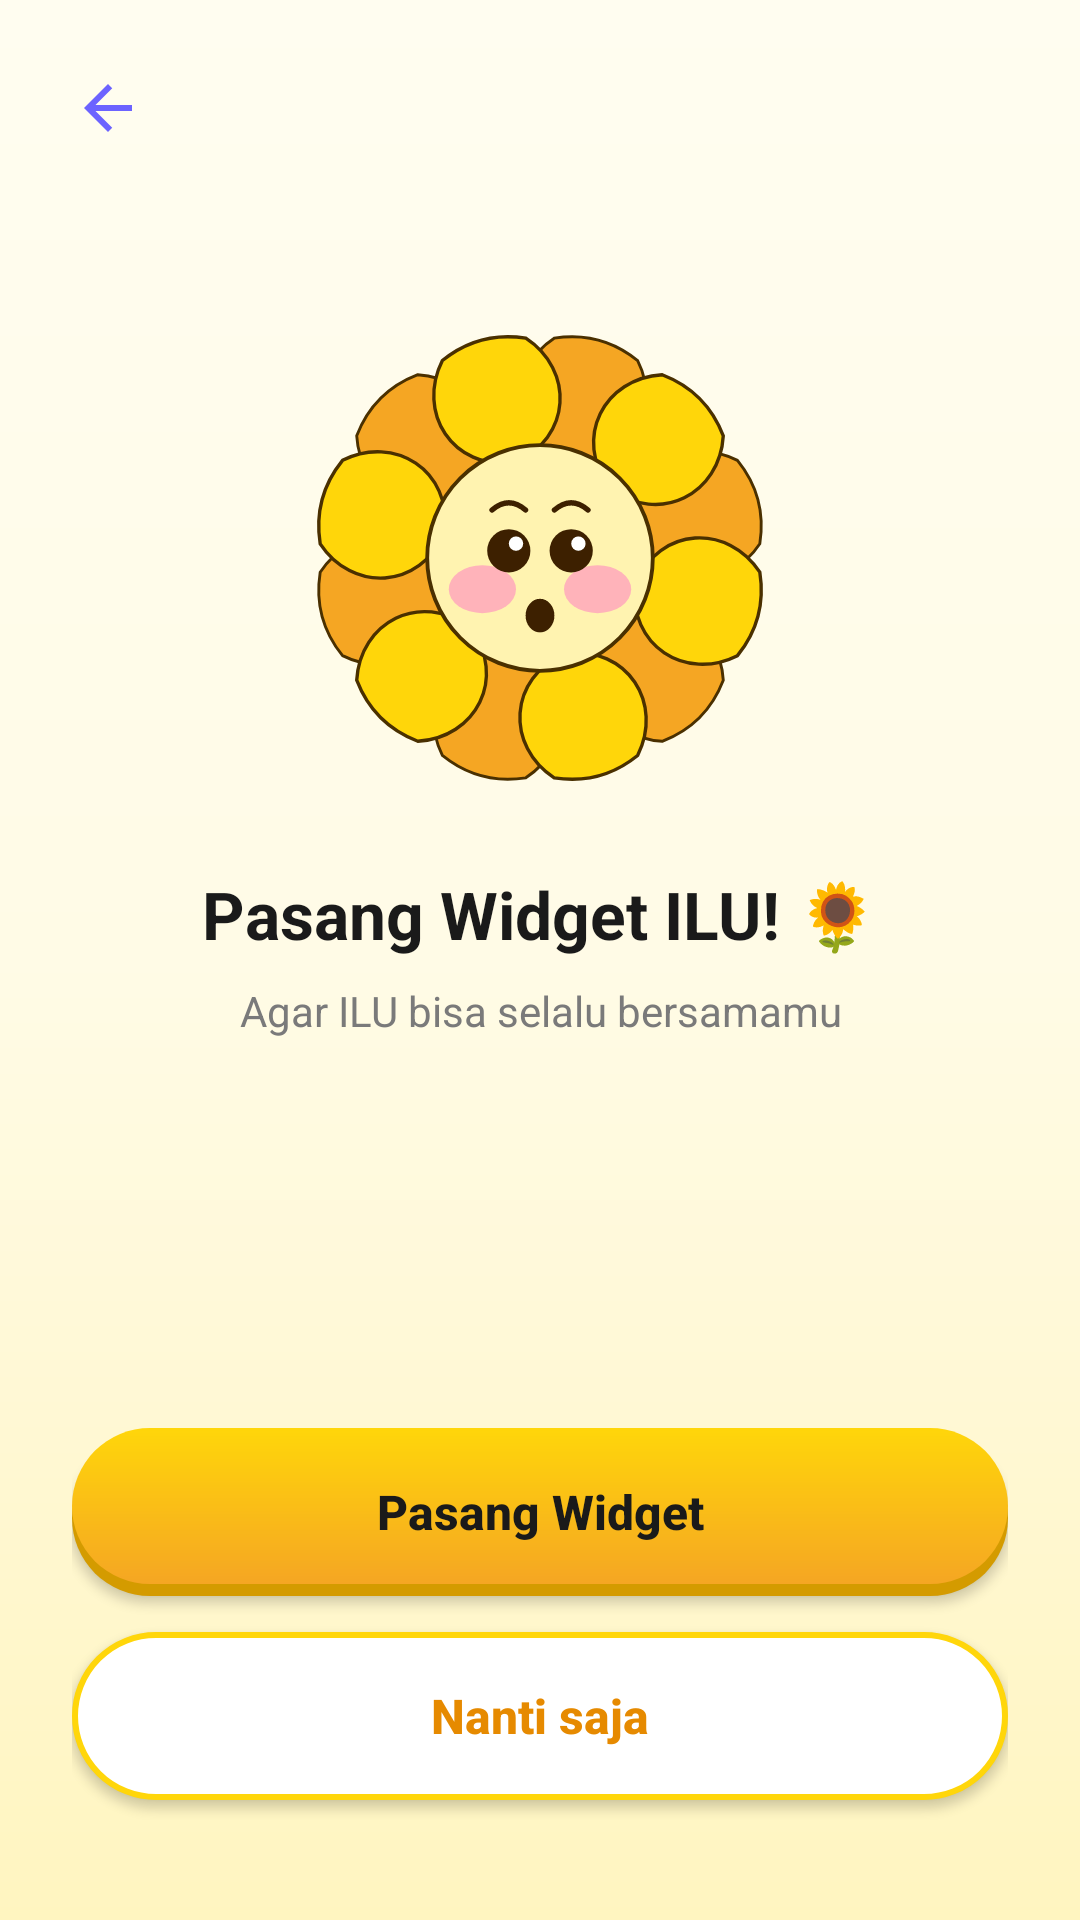

Point at icon controls on the screen. Image size 1080x1920, points as (x=x, y=y).
Kembali: (x=108, y=108)
